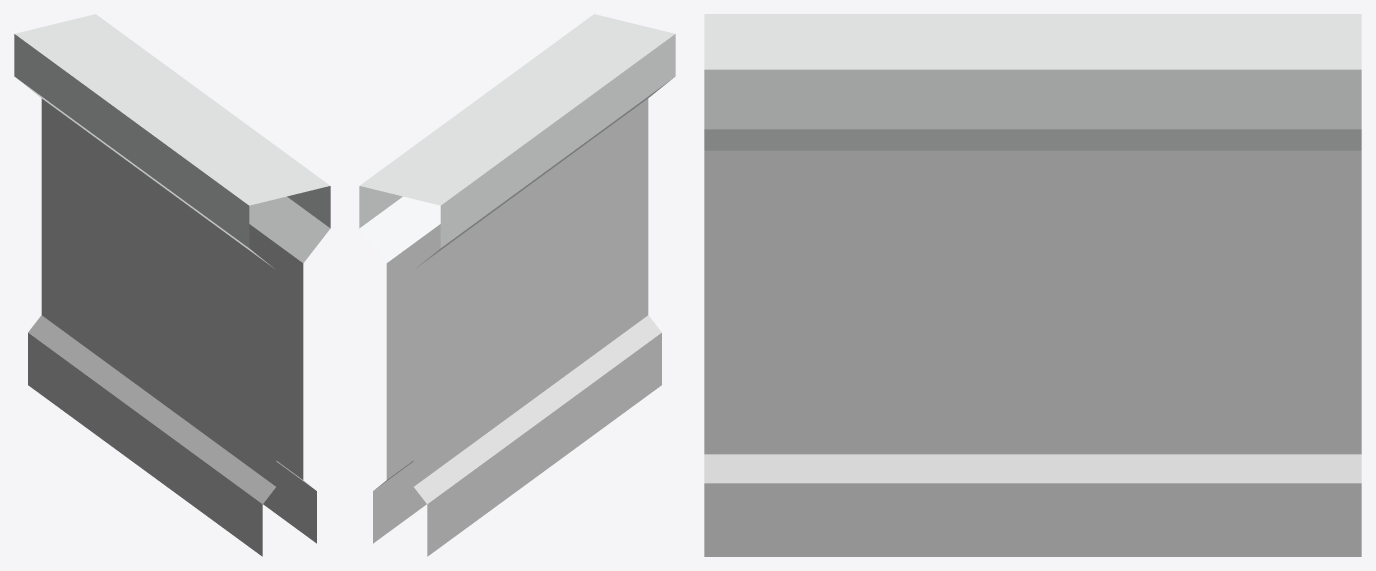
File: wall_l_c.fbx
3 views of the same model, side by side, from view 1: azimuth 30°, elevation 25°; view 2: azimuth 150°, elevation 25°; view 3: azimuth 270°, elevation 25° (orthographic). The views are drawn at different scales.
Parts seen in each view (by area): view 1: wall_l_c; view 2: wall_l_c; view 3: wall_l_c.
Part boxes in pixels (<box>): wall_l_c: <box>14,14,330,556</box>; wall_l_c: <box>359,14,675,556</box>; wall_l_c: <box>704,14,1361,556</box>.
Bounding box in the file's own units: 0.6 × 2.5 × 3.
